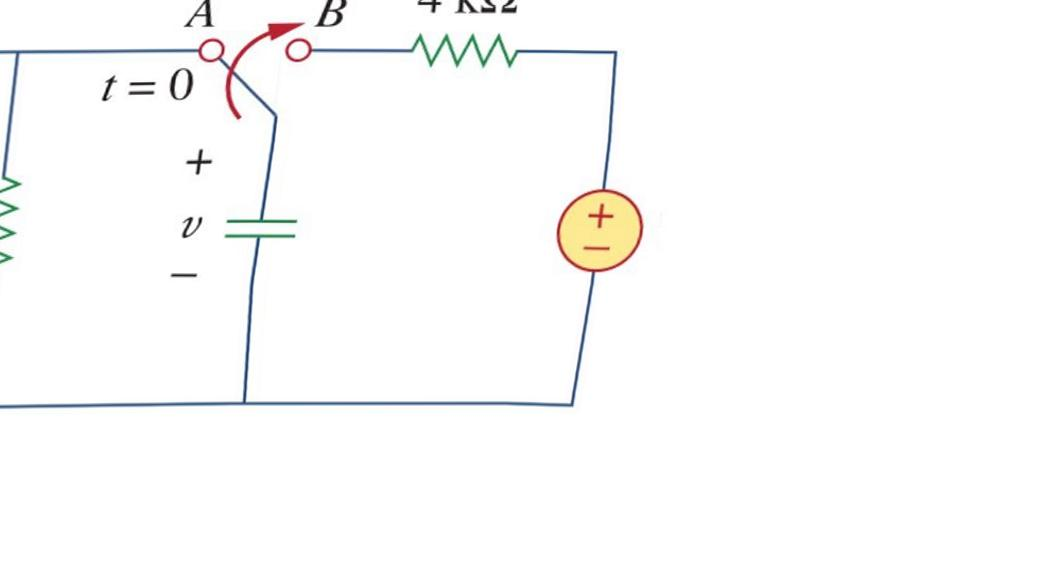Battery: (537, 169, 661, 286)
